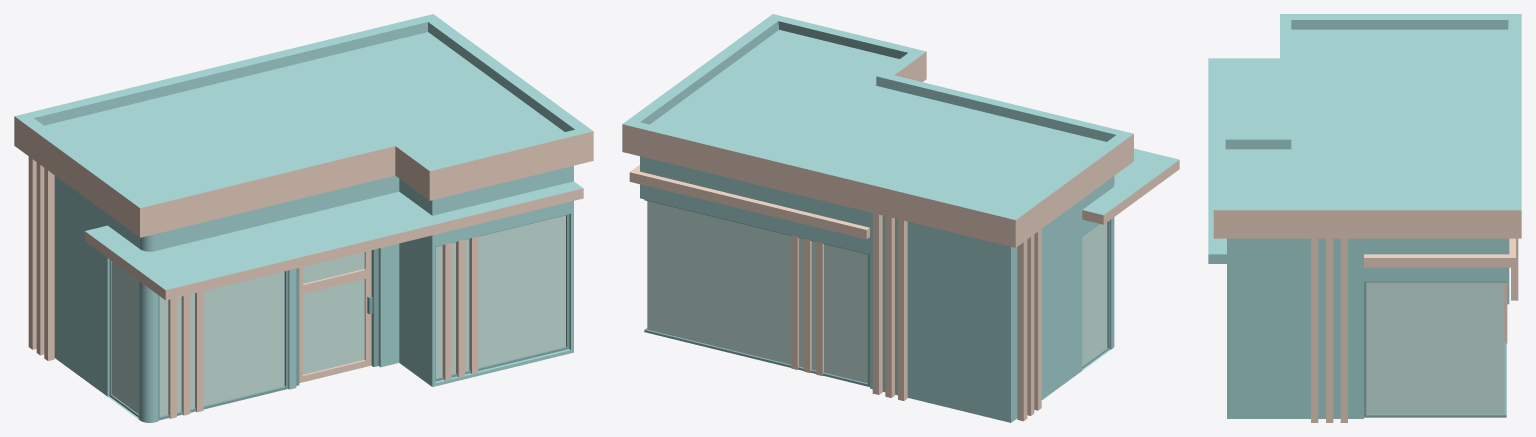
Rendered from BlueHouse.fbx.
The picture shows the model from 3 angles, left to right: view 1: azimuth 30°, elevation 25°; view 2: azimuth 150°, elevation 25°; view 3: azimuth 270°, elevation 25°; orthographic projection. The views are drawn at different scales.
Parts seen in each view (by area): view 1: blue_house; view 2: blue_house; view 3: blue_house.
Boxes of the visible parts, x1,y1,x2,y2 form: blue_house: (14,14,593,422); blue_house: (622,14,1179,422); blue_house: (1208,14,1521,422).
Bounding box in the file's own units: 673 × 334 × 441.
